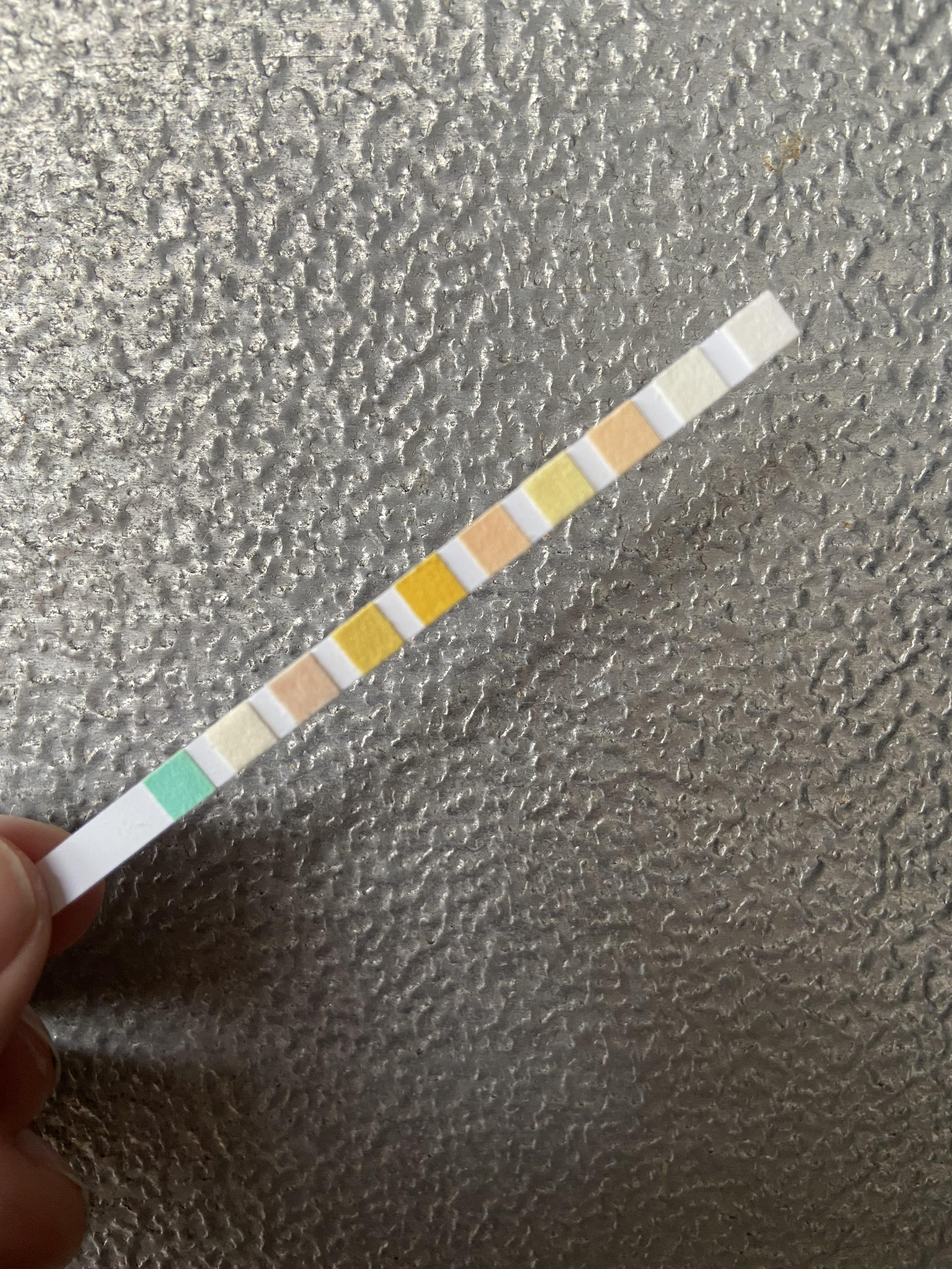Bilirubin: (221, 721, 262, 754)
Blood: (409, 574, 451, 607)
Glucose: (159, 768, 199, 803)
Ketone: (282, 675, 326, 704)
Leukocytes: (737, 315, 787, 342)
Nitrite: (667, 369, 715, 399)
Protein: (536, 474, 581, 505)
SpGravity: (346, 623, 390, 653)
Urobilinogen: (605, 421, 645, 455)
pH: (476, 522, 513, 561)
strip: (58, 291, 801, 891)
